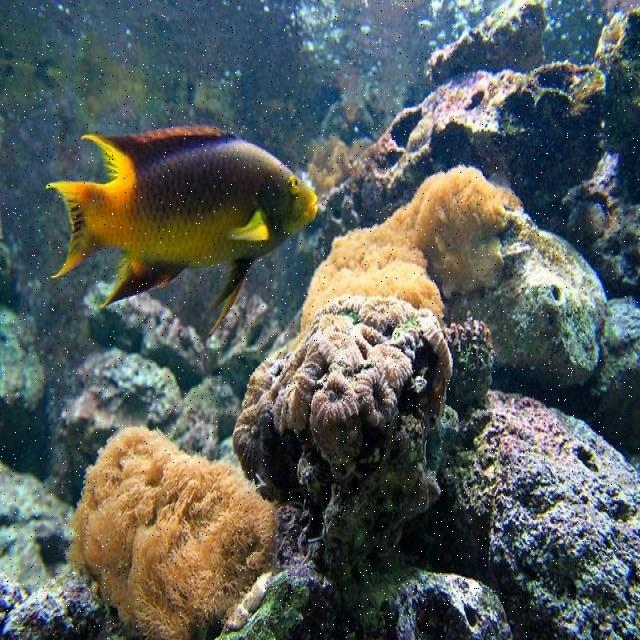aquatic plants: (69, 428, 278, 639), (299, 167, 519, 325)
fish: (49, 123, 320, 331)
reefs: (239, 296, 448, 575)
